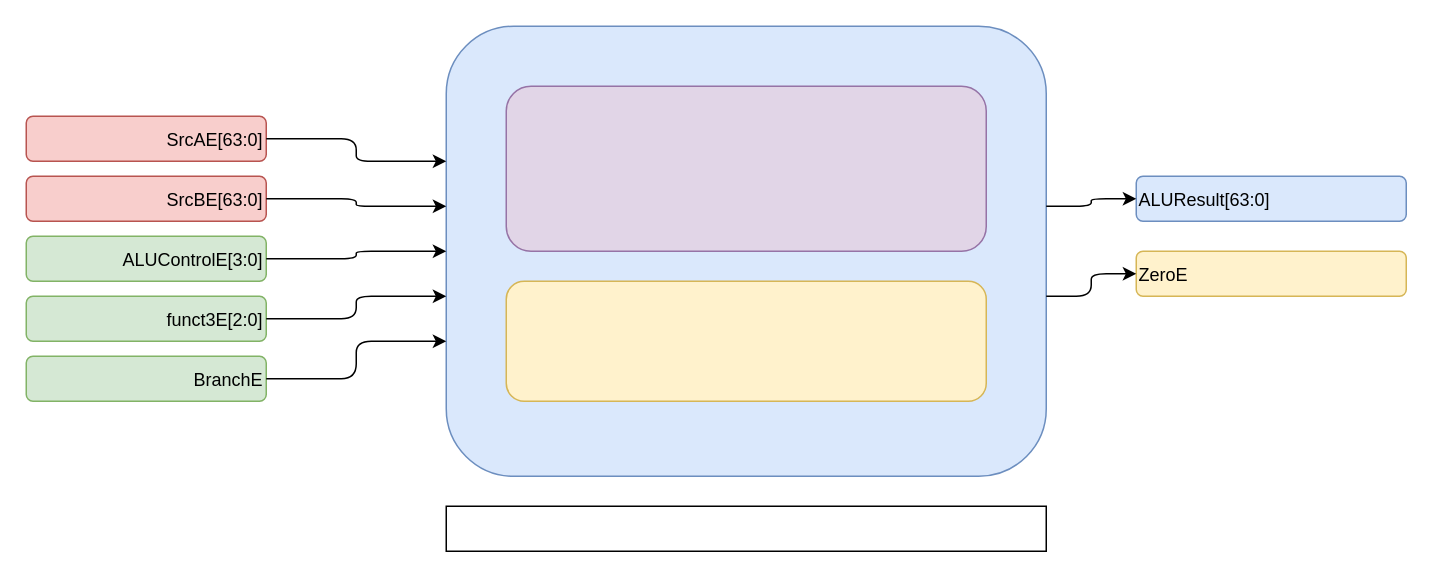
Some shapes in this 1433 by 578 pixel diagram are drawn without their labels. The shapes that lost their labels are listed below. From the top down, each one's centre as x and y in pixels, then its label:
the point at 745,168: ALU Operations ADD / SUB / AND / OR / XOR SLT Zba: SHxADD / ADD.UW
the point at 745,340: Branch Compare BEQ / BNE / BLT / BGE
the point at 745,528: ALU
